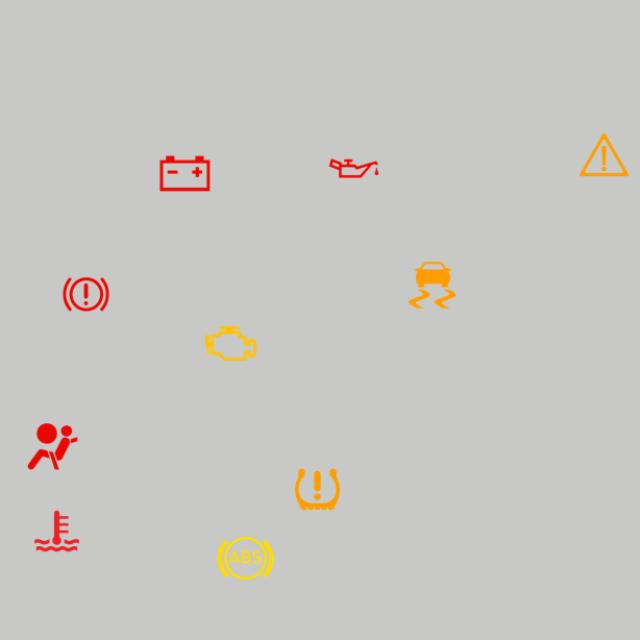Anti Lock Braking System: (215, 527, 276, 589)
Braking System Issue: (55, 264, 117, 325)
Charging System Issue: (154, 143, 216, 204)
Check Engine: (200, 313, 262, 374)
Electronic Stability Problem -ESP-: (401, 254, 463, 316)
Engine Overheating Warning Light: (26, 500, 88, 562)
Low Engine Oil Warning Light: (323, 138, 385, 199)
Low Tire Pressure Warning Light: (287, 459, 348, 520)
Master warning light: (573, 124, 635, 186)
SRS-Airbag: (22, 416, 83, 477)
